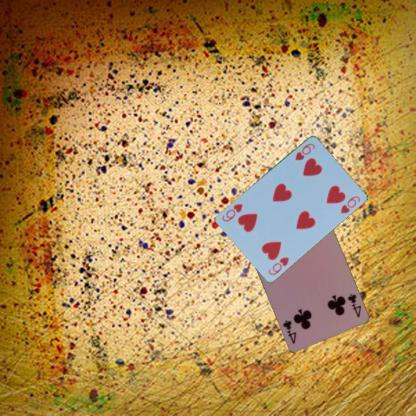4c: (345, 291, 362, 318)
6h: (266, 254, 290, 277), (292, 140, 316, 162)
